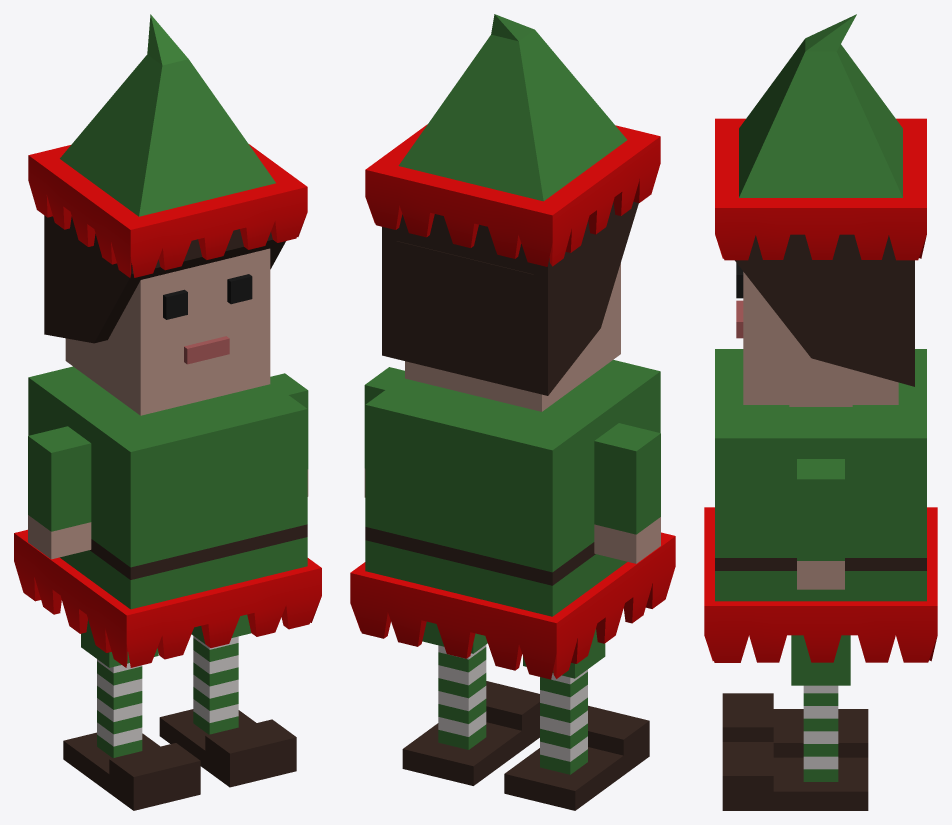
The model's file is 076 Xmas_Boy.fbx.
3 renders of one model, left to right at view 1: azimuth 30°, elevation 25°; view 2: azimuth 150°, elevation 25°; view 3: azimuth 270°, elevation 25°, orthographic. The views are drawn at different scales.
Parts seen in each view (by area): view 1: Lowpoly_Christmas_Pack_076:pCube19; view 2: Lowpoly_Christmas_Pack_076:pCube19; view 3: Lowpoly_Christmas_Pack_076:pCube19.
Part boxes in pixels (x1,y1,x2,y2): Lowpoly_Christmas_Pack_076:pCube19: (14,14,321,810); Lowpoly_Christmas_Pack_076:pCube19: (350,14,675,810); Lowpoly_Christmas_Pack_076:pCube19: (704,14,937,810).
Bounding box in the file's own units: 1.02 × 2.76 × 0.7733.
